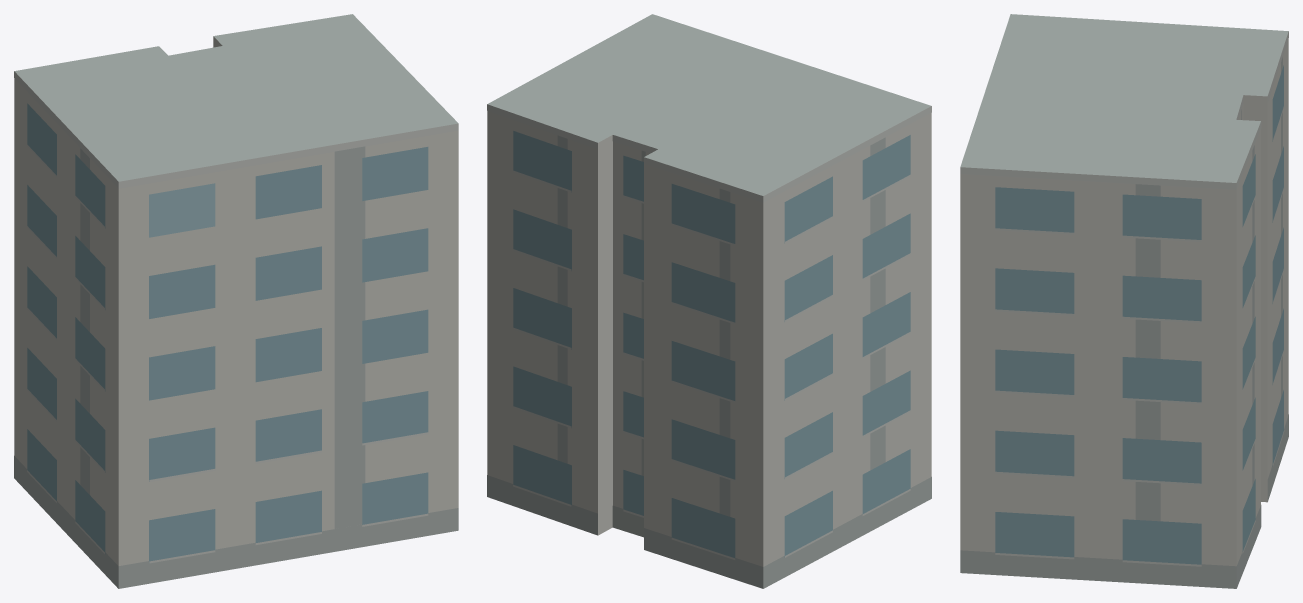
Rendered from survey-upis-32806302.glb.
3 renders of one model, left to right at view 1: azimuth 30°, elevation 25°; view 2: azimuth 150°, elevation 25°; view 3: azimuth 270°, elevation 25°, orthographic. The views are drawn at different scales.
Parts seen in each view (by area): view 1: survey-upis-32806302.tmp; view 2: survey-upis-32806302.tmp; view 3: survey-upis-32806302.tmp.
Part boxes in pixels (x1,y1,x2,y2): survey-upis-32806302.tmp: (14,14,458,588); survey-upis-32806302.tmp: (487,14,931,588); survey-upis-32806302.tmp: (960,14,1288,588).
Size of the model in its own units: 12.87 by 14.4 by 10.57.
